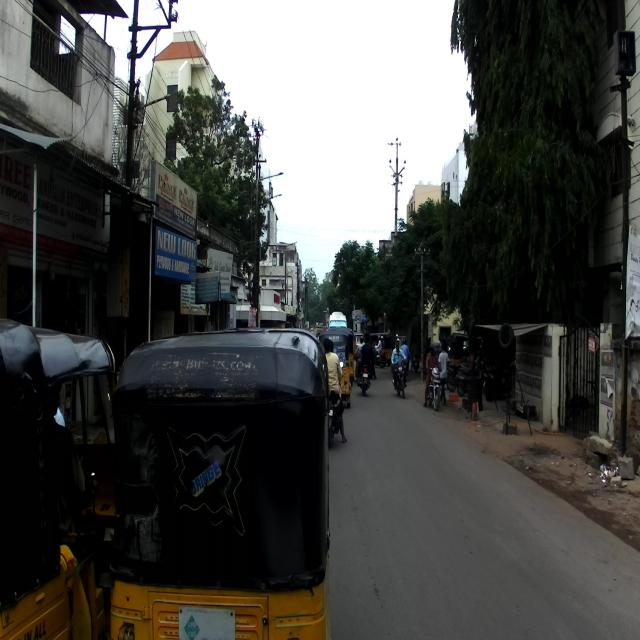autorickshaw: (106, 327, 338, 638), (0, 318, 122, 638)
motorcycle_bajaj: (391, 358, 407, 400)
